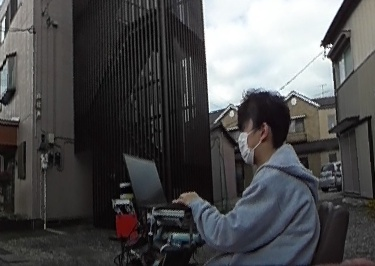person: (203, 91, 328, 266)
